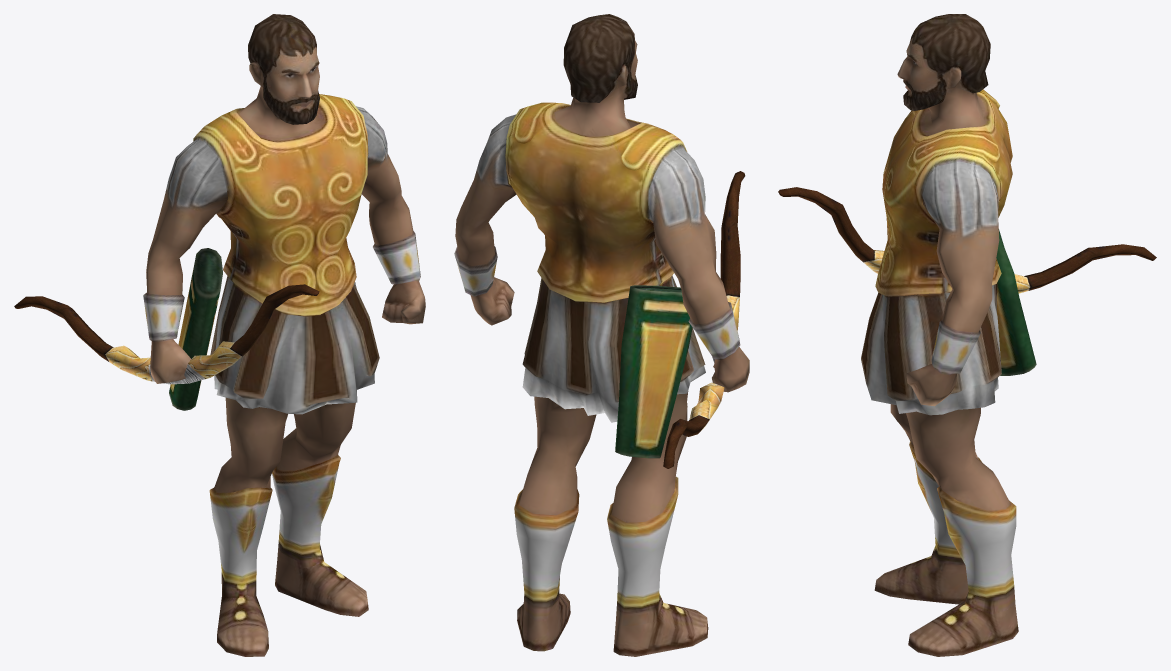
The model's file is 95-odysseus.glb.
The picture shows the model from 3 angles, left to right: view 1: azimuth 30°, elevation 25°; view 2: azimuth 150°, elevation 25°; view 3: azimuth 270°, elevation 25°; orthographic projection. The views are drawn at different scales.
Size of the model in its own units: 1.39 by 2.6 by 1.48.
2 materials, 2 textured.
